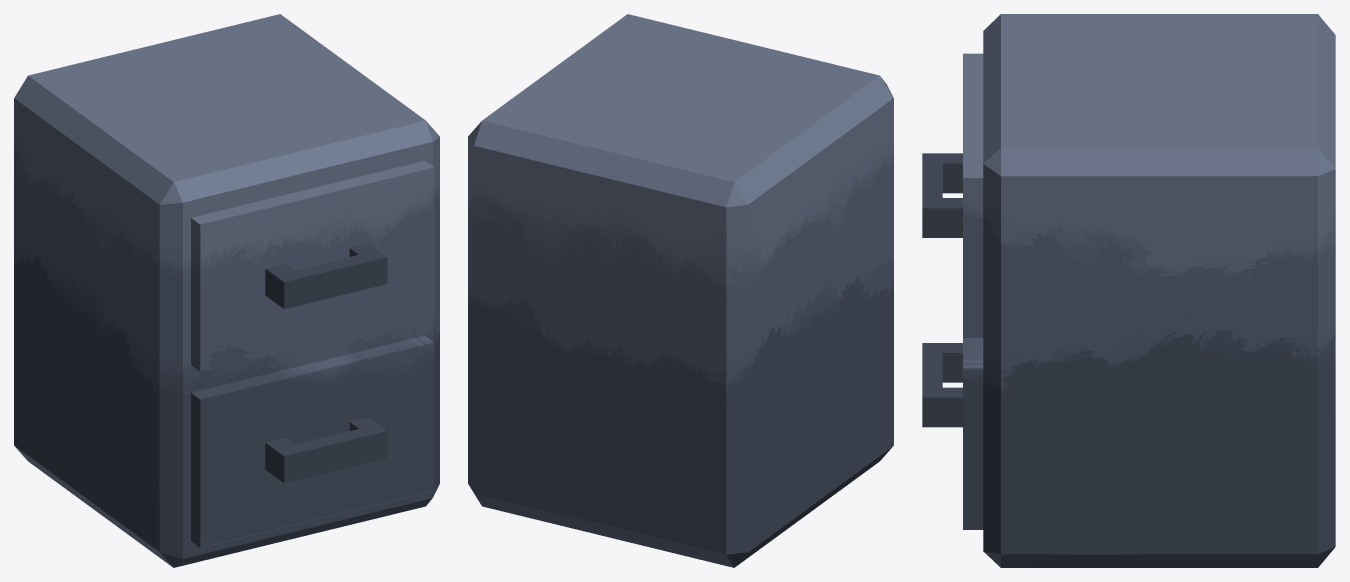
File: Closet.fbx
3 renders of one model, left to right at view 1: azimuth 30°, elevation 25°; view 2: azimuth 150°, elevation 25°; view 3: azimuth 270°, elevation 25°, orthographic. The views are drawn at different scales.
Visible parts, largest first — view 1: Cube; view 2: Cube; view 3: Cube.
Boxes of the visible parts, x1=… form: Cube: x1=14, y1=14, x2=439, y2=567; Cube: x1=468, y1=14, x2=893, y2=567; Cube: x1=922, y1=14, x2=1335, y2=567.
Bounding box in the file's own units: 260 × 342 × 305.
1 material, 1 textured.
